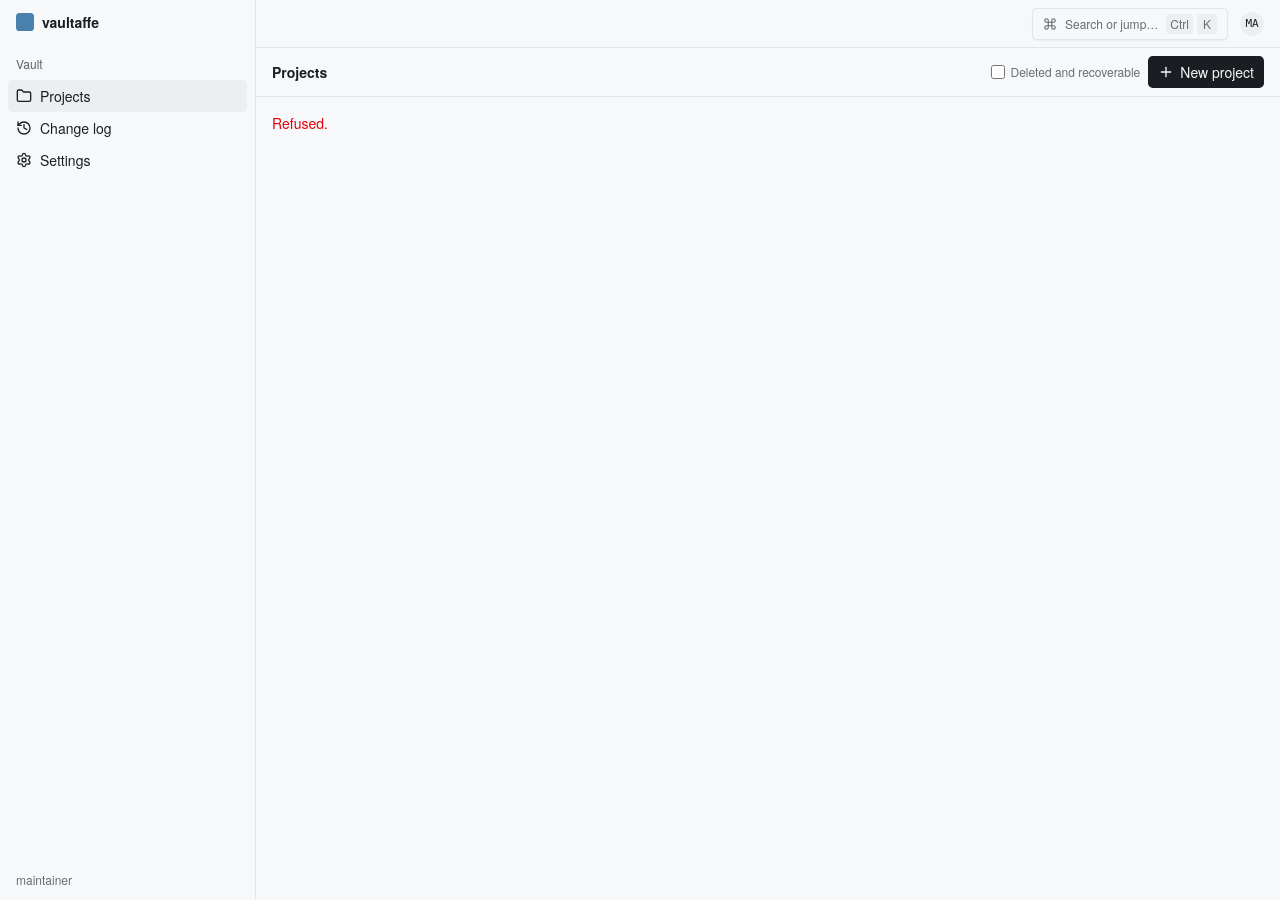
the palette › goes where a row leads
Click the button "Search or jump… Ctrl K".
click(1130, 24)  # box [1032, 8, 1228, 40]
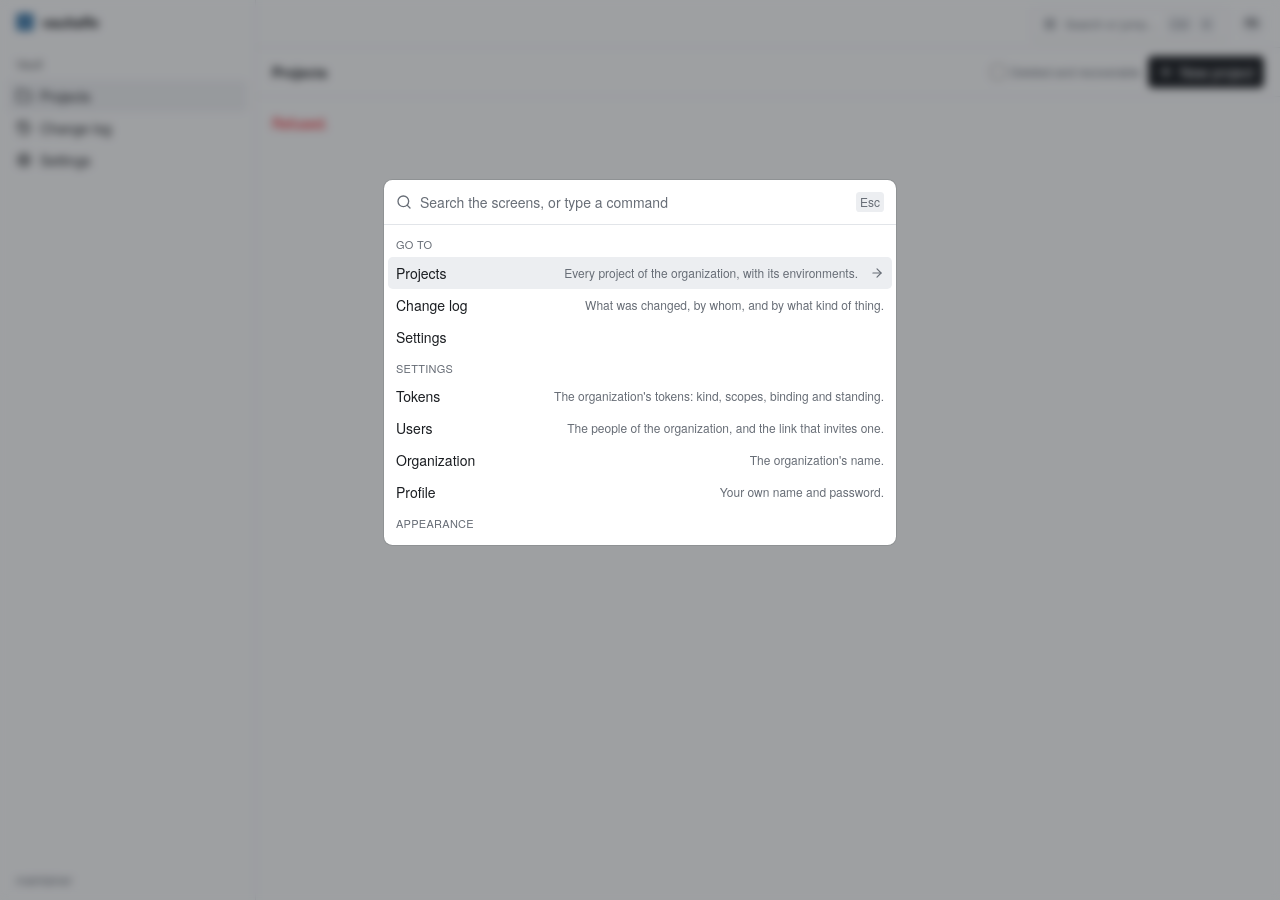
Type "change" into the dropdown.
click(634, 202); type("change")  # box [420, 180, 848, 224]
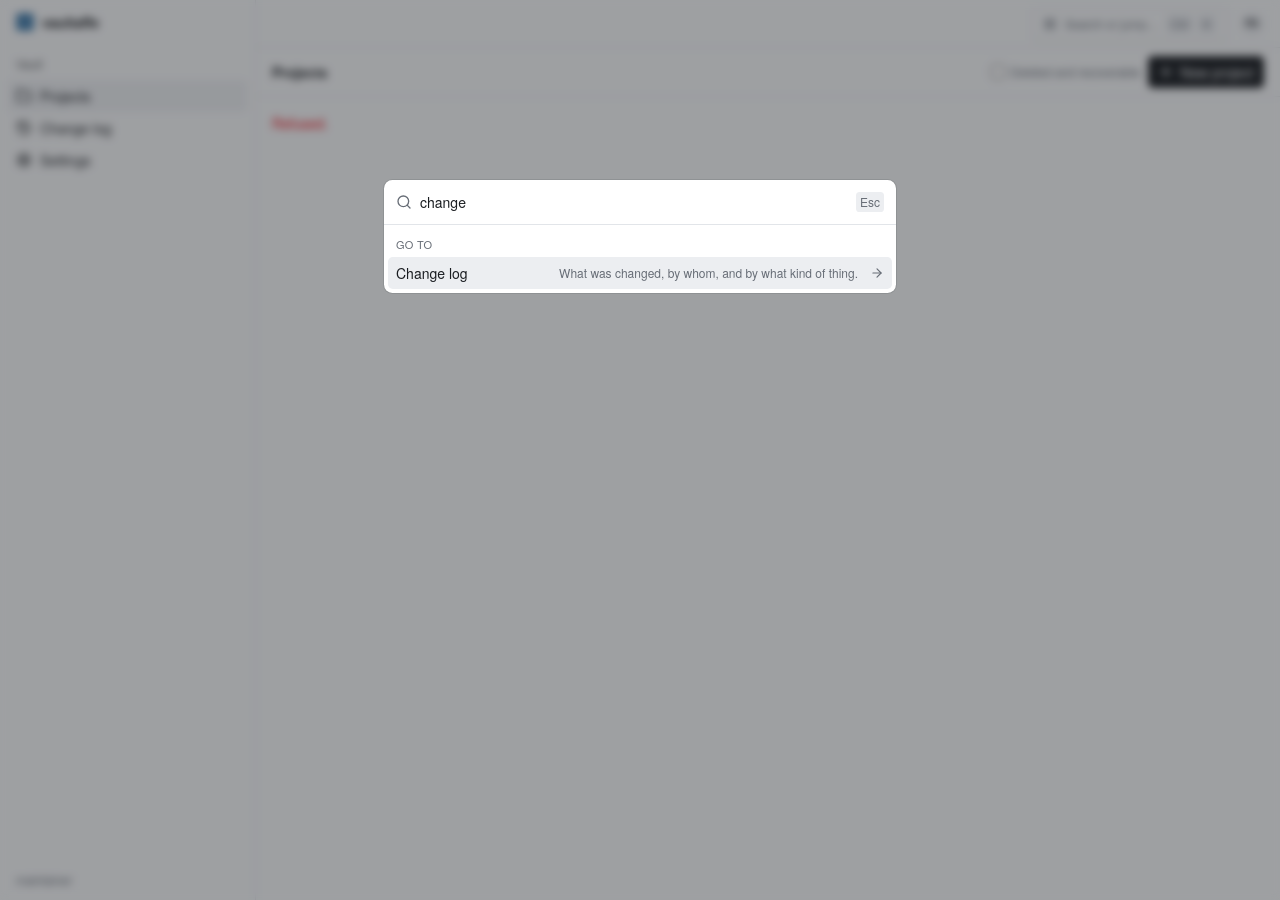
Press Enter
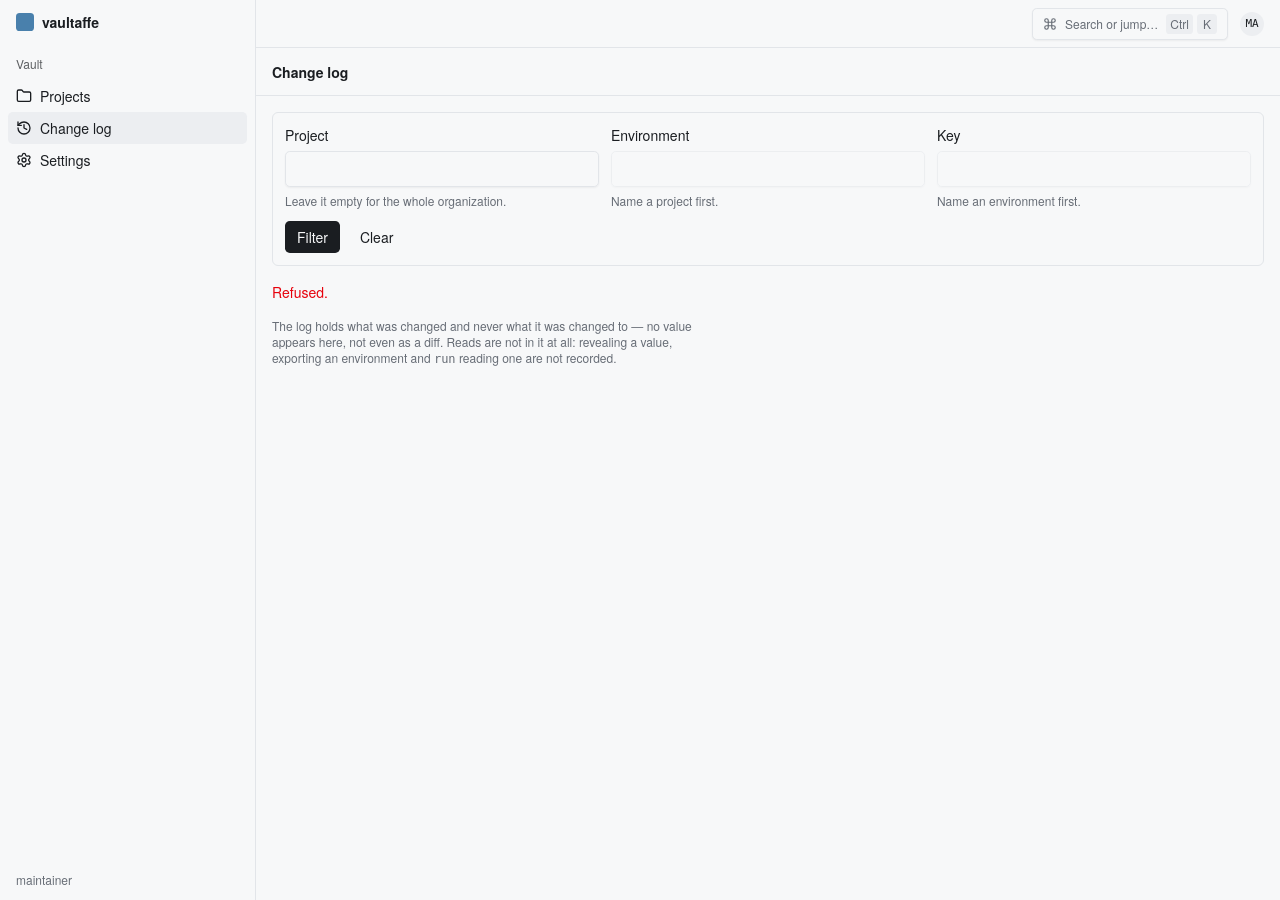
Expected: the heading "Change log" is shown, [272, 62, 348, 82]
